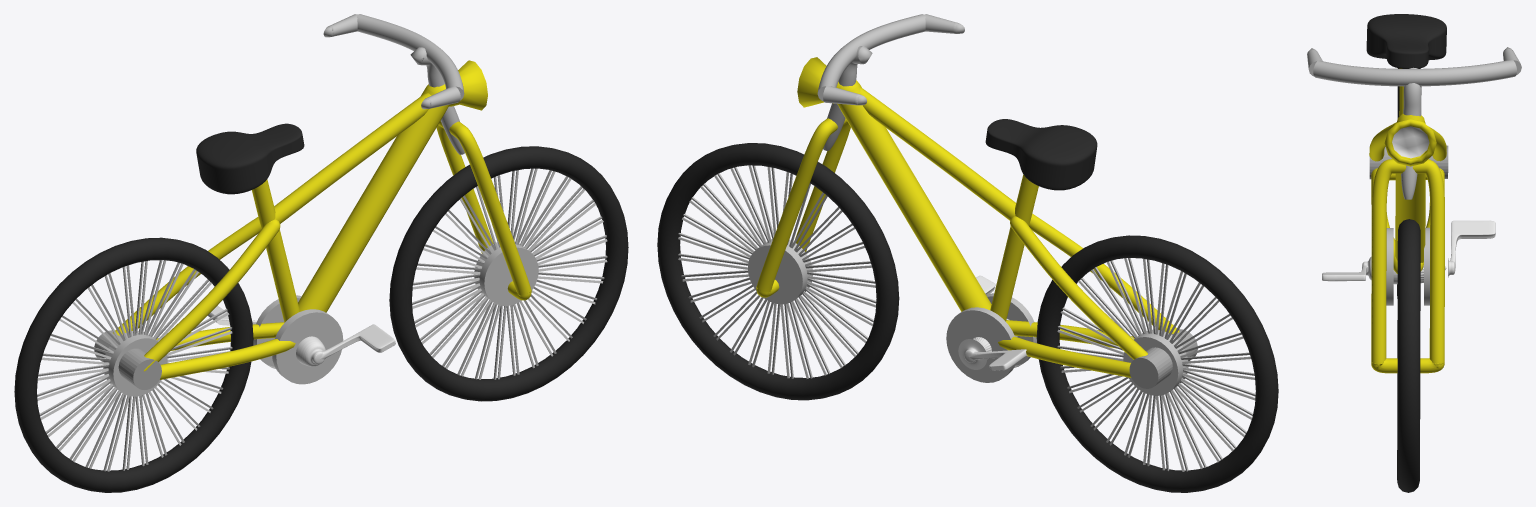
The model's file is Bicycle.fbx.
The picture shows the model from 3 angles, left to right: view 1: azimuth 30°, elevation 25°; view 2: azimuth 150°, elevation 25°; view 3: azimuth 270°, elevation 25°; orthographic projection.
Visible parts, largest first — view 1: Cylinder, NurbsPath.008, BezierCircle.001, BezierCircle.002, Seat, Cylinder.002, Cylinder.001; view 2: Cylinder, NurbsPath.008, BezierCircle.001, BezierCircle.002, Seat, Cylinder.002, Cylinder.001; view 3: NurbsPath.008, BezierCircle.001, Seat, Cylinder.002, Cylinder, Cylinder.001.
Boxes of the visible parts, x1,y1,x2,y2 form: Cylinder: (37, 168, 607, 471); NurbsPath.008: (113, 14, 531, 379); BezierCircle.001: (389, 146, 628, 401); BezierCircle.002: (14, 237, 253, 492); Seat: (196, 123, 304, 194); Cylinder.002: (207, 306, 395, 366); Cylinder.001: (94, 330, 161, 389); Cylinder: (678, 165, 1255, 471); NurbsPath.008: (756, 14, 1179, 377); BezierCircle.001: (657, 143, 899, 400); BezierCircle.002: (1036, 235, 1278, 492); Seat: (985, 119, 1097, 190); Cylinder.002: (958, 275, 1027, 370); Cylinder.001: (1129, 329, 1197, 388); NurbsPath.008: (1307, 47, 1521, 373); BezierCircle.001: (1397, 219, 1420, 492); Seat: (1366, 14, 1446, 68); Cylinder.002: (1322, 220, 1495, 284); Cylinder: (1386, 227, 1429, 305); Cylinder.001: (1369, 145, 1448, 179).
Size of the model in its own units: 472 by 274 by 143.
